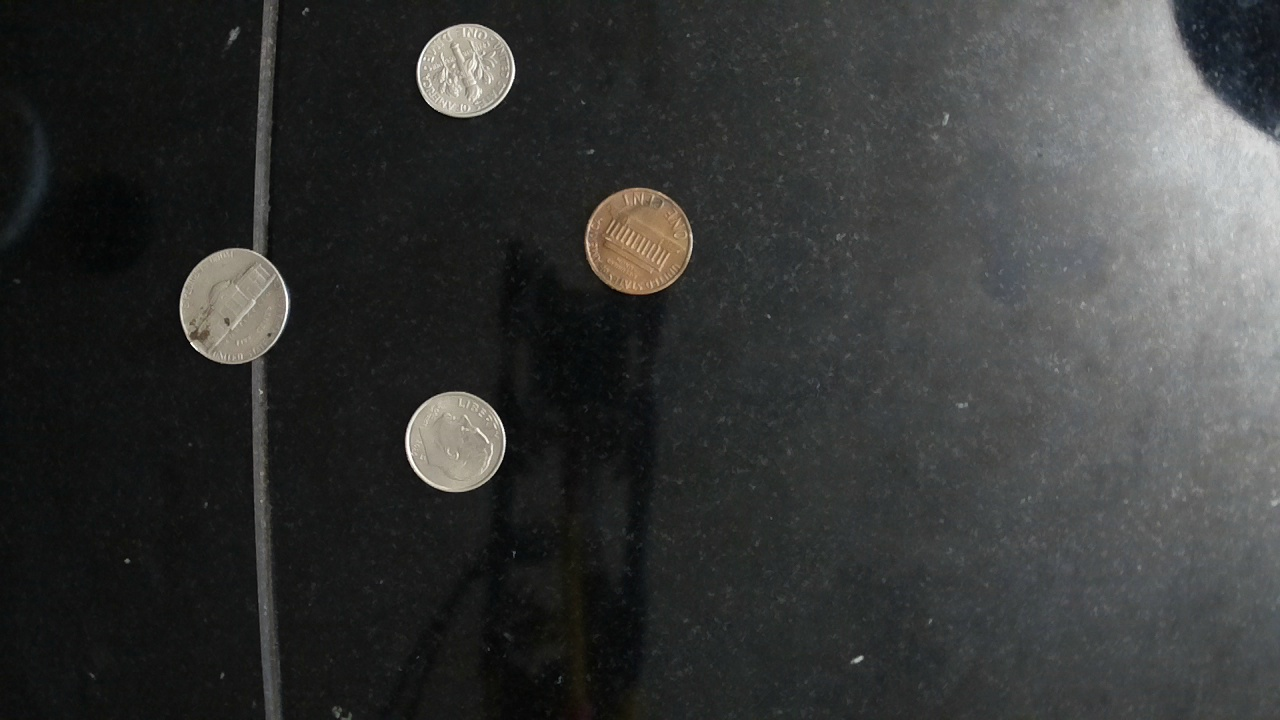dime: (400, 388, 510, 498), (413, 19, 519, 121)
nickel: (170, 238, 292, 372)
penny: (580, 182, 696, 302)
